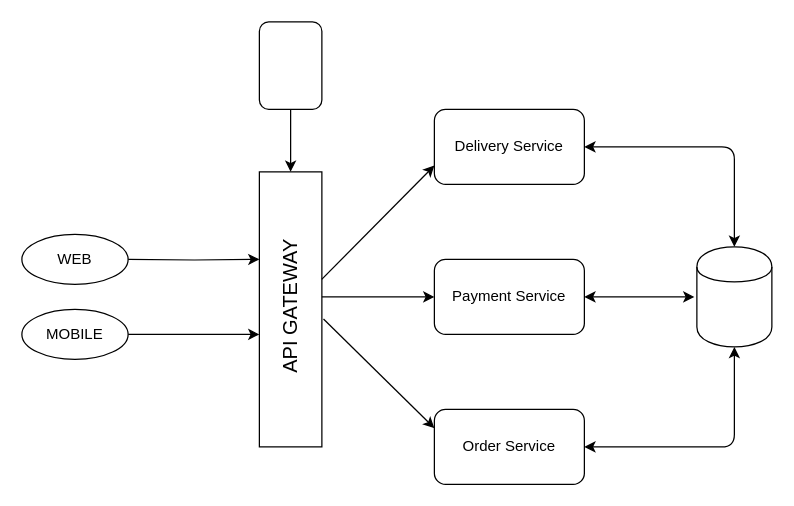
Some shapes in this 794 by 506 pixel diagram are drawn without their labels. The shapes that lost their labels are listed below. From the top down, each one's centre as x and y in pixels, then its label:
At (x=290, y=65): "Auth".
At (x=734, y=296): "DB".
